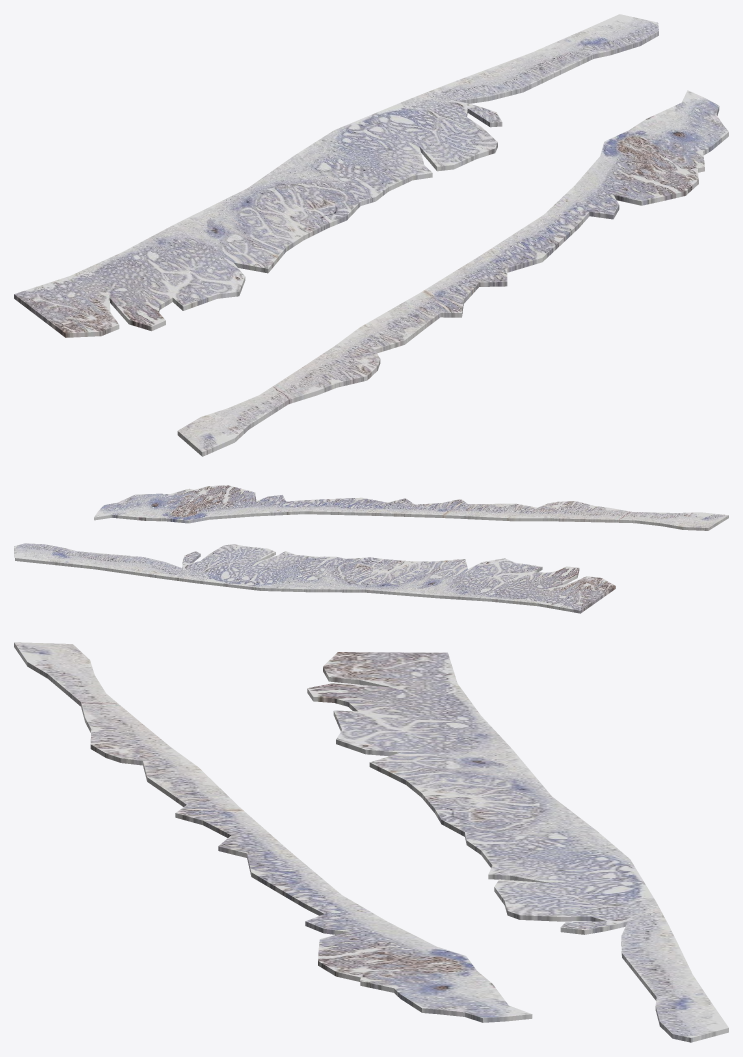
The picture shows the model from 3 angles, top to bottom: view 1: azimuth 30°, elevation 25°; view 2: azimuth 150°, elevation 25°; view 3: azimuth 270°, elevation 25°; orthographic projection. The views are drawn at different scales.
Parts seen in each view (by area): view 1: 平面; view 2: 平面; view 3: 平面.
Boxes of the visible parts, bbox=[...] form: 平面: bbox=[14, 14, 728, 456]; 平面: bbox=[14, 485, 728, 613]; 平面: bbox=[14, 642, 728, 1042].
Bounding box in the file's own units: 25.42 × 0.14 × 19.41.
Materials: 1 (1 with a texture image).
